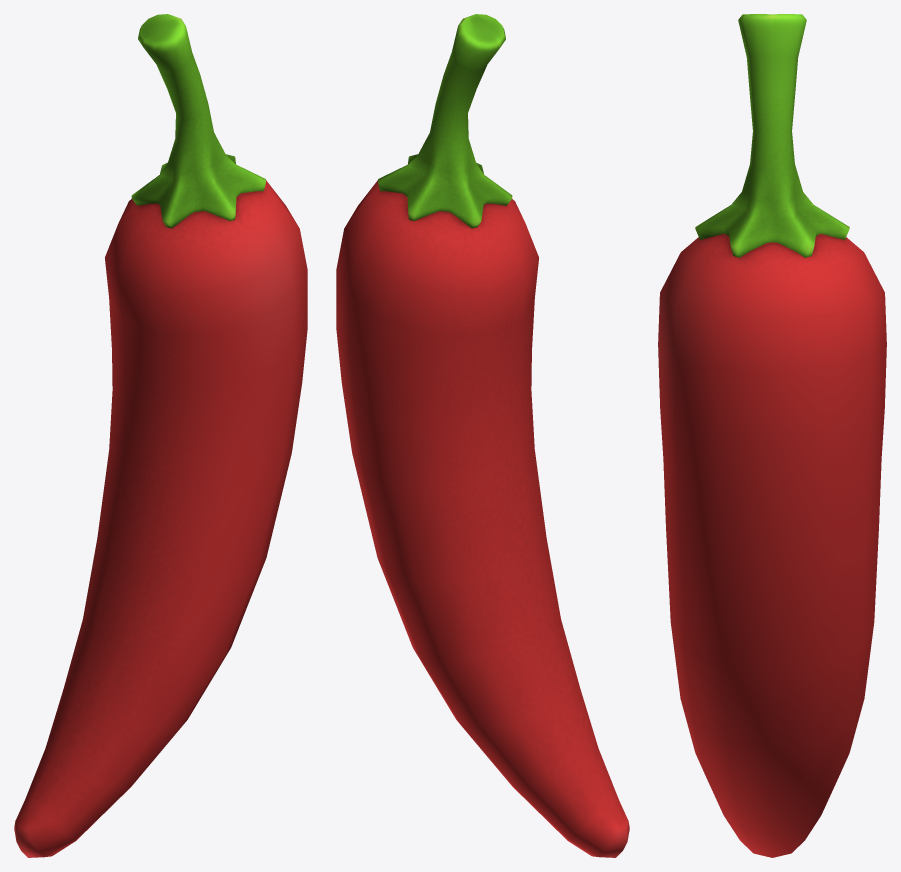
The model's file is pepper_red.fbx.
3 renders of one model, left to right at view 1: azimuth 30°, elevation 25°; view 2: azimuth 150°, elevation 25°; view 3: azimuth 270°, elevation 25°, orthographic. The views are drawn at different scales.
Parts seen in each view (by area): view 1: pepper_red; view 2: pepper_red; view 3: pepper_red.
Part boxes in pixels (bbox=[...]): pepper_red: bbox=[14, 14, 307, 857]; pepper_red: bbox=[336, 14, 629, 857]; pepper_red: bbox=[658, 14, 886, 857].
Size of the model in its own units: 0.3839 by 1.07 by 0.2412.
